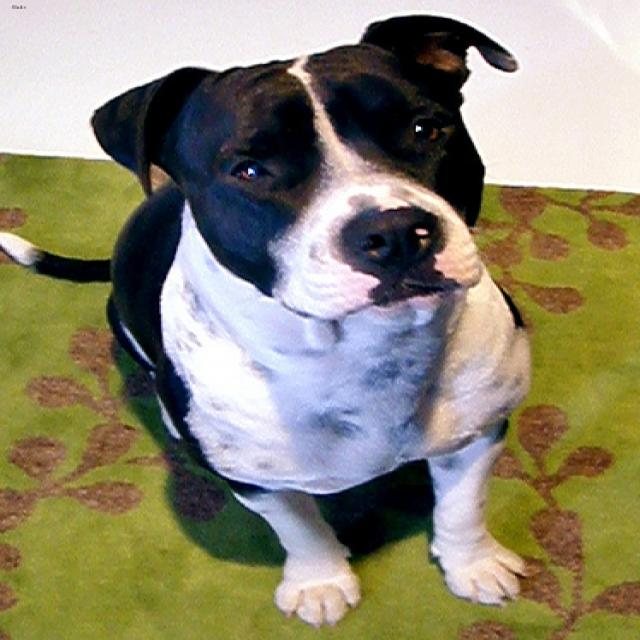dog-american_pit_bull_terrier: (2, 5, 548, 634)
